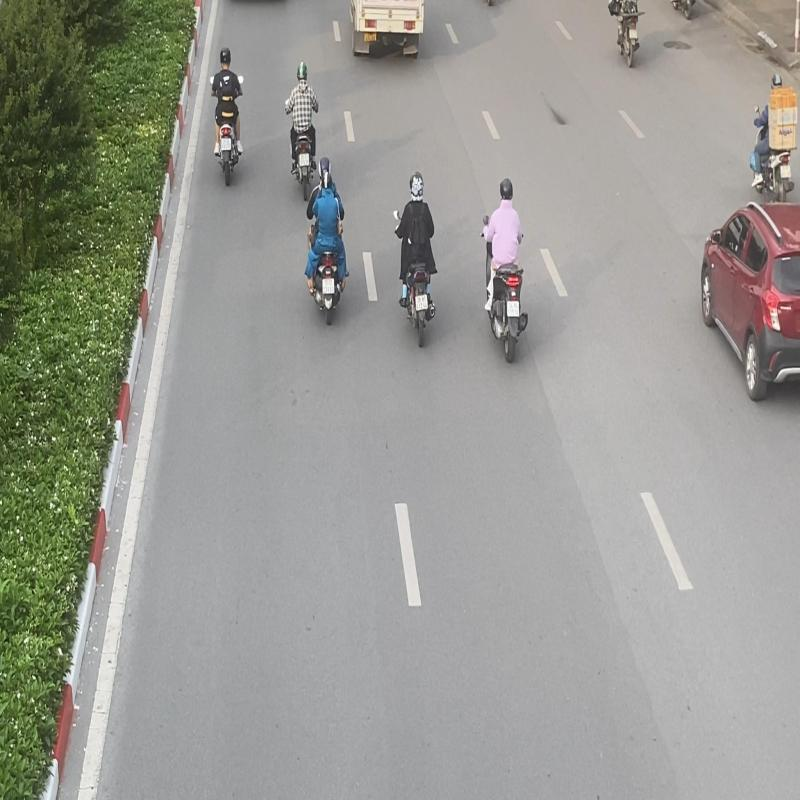helmet: (410, 172, 424, 203), (499, 178, 514, 200), (219, 46, 232, 69), (296, 60, 308, 82), (318, 156, 331, 176)
licenseplate: (507, 300, 520, 318), (415, 294, 428, 312), (322, 277, 335, 295), (298, 152, 310, 166), (220, 138, 232, 150)
motorcyclist: (479, 177, 530, 365), (392, 172, 440, 350), (304, 157, 350, 328), (284, 59, 319, 202), (210, 46, 244, 188)
